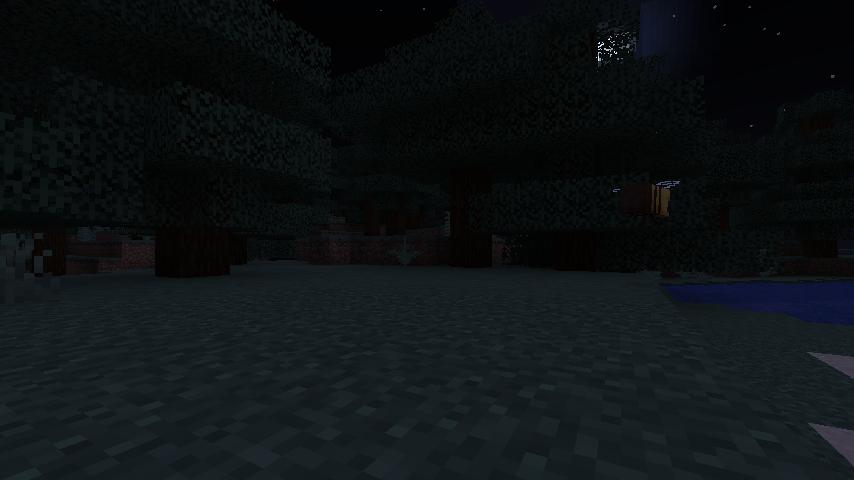bee: (609, 177, 681, 221)
